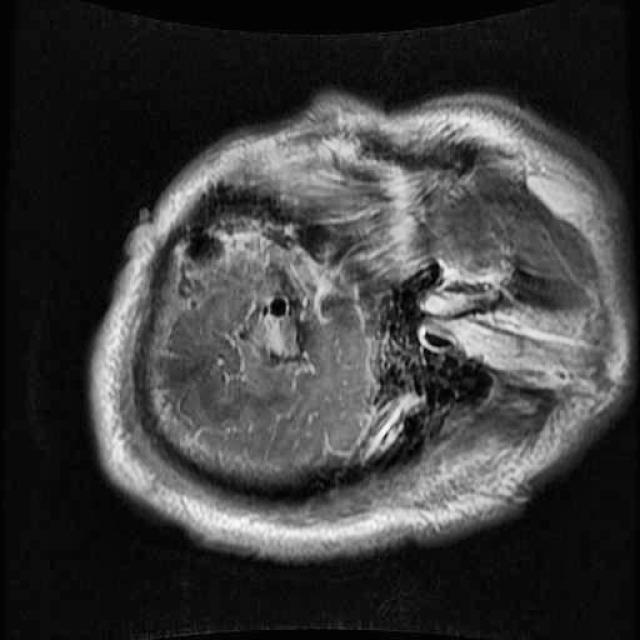Tumor: (237, 282, 318, 376)
